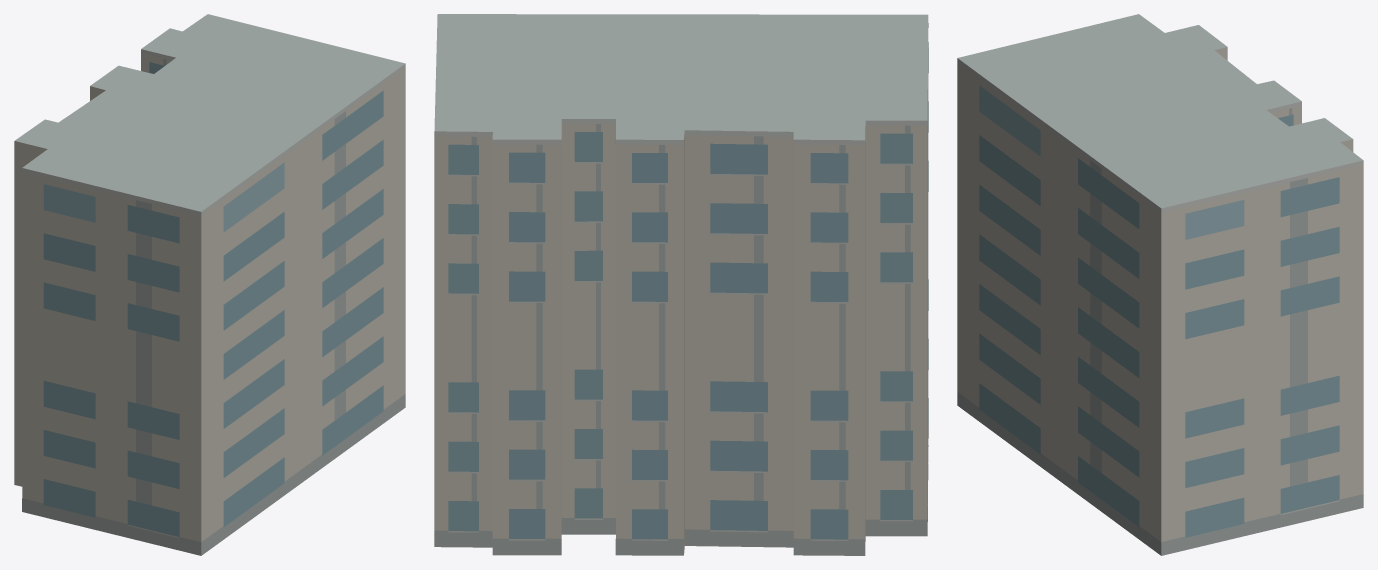
The model's file is survey-upis-32979448.glb.
The picture shows the model from 3 angles, left to right: view 1: azimuth 30°, elevation 25°; view 2: azimuth 150°, elevation 25°; view 3: azimuth 270°, elevation 25°; orthographic projection. The views are drawn at different scales.
Parts seen in each view (by area): view 1: survey-upis-32979448.tmp; view 2: survey-upis-32979448.tmp; view 3: survey-upis-32979448.tmp.
Part boxes in pixels (x1,y1,x2,y2): survey-upis-32979448.tmp: (14, 14, 405, 555); survey-upis-32979448.tmp: (434, 14, 928, 555); survey-upis-32979448.tmp: (957, 14, 1363, 555).
Size of the model in its own units: 24.07 by 20.05 by 21.26.
